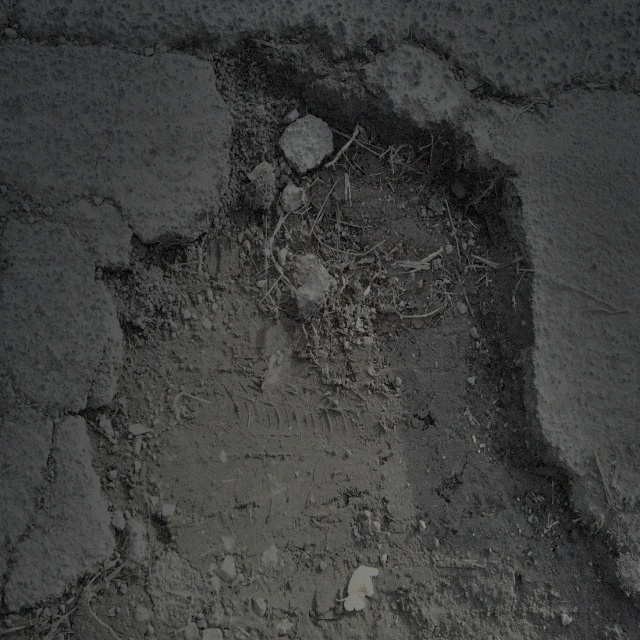pothole: (86, 27, 552, 547)
